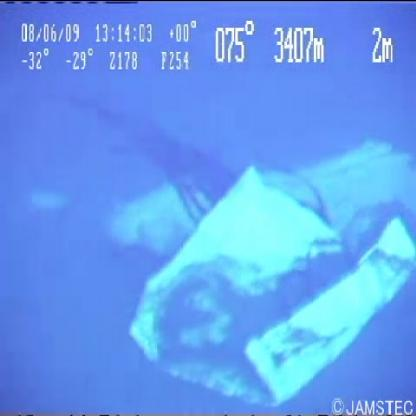Rác: (71, 104, 412, 410)
